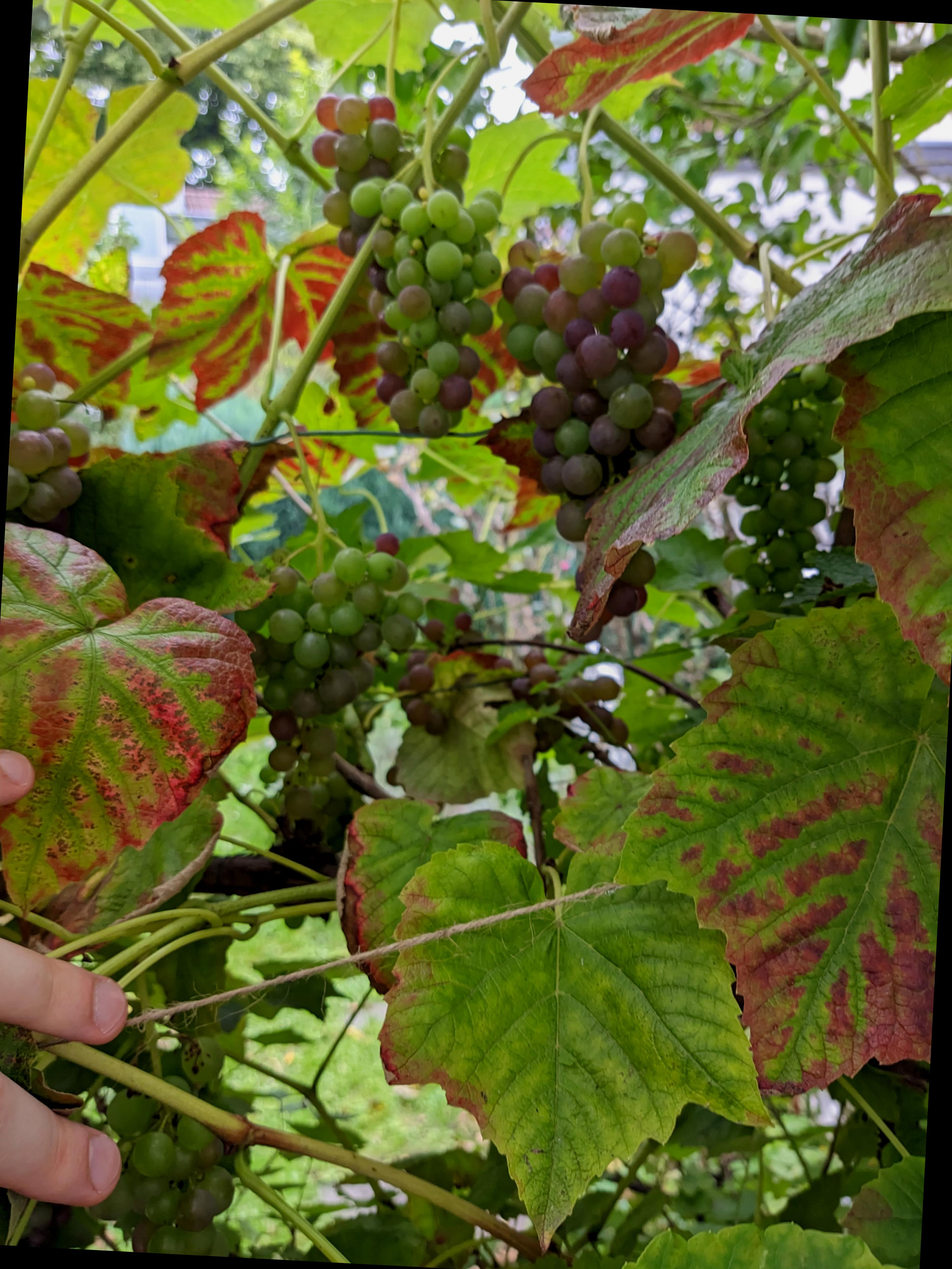Grape Unripe: (519, 170, 729, 526), (257, 490, 459, 770), (370, 151, 542, 423), (116, 1000, 284, 1234), (747, 325, 881, 592), (338, 70, 507, 245), (38, 339, 136, 500)
